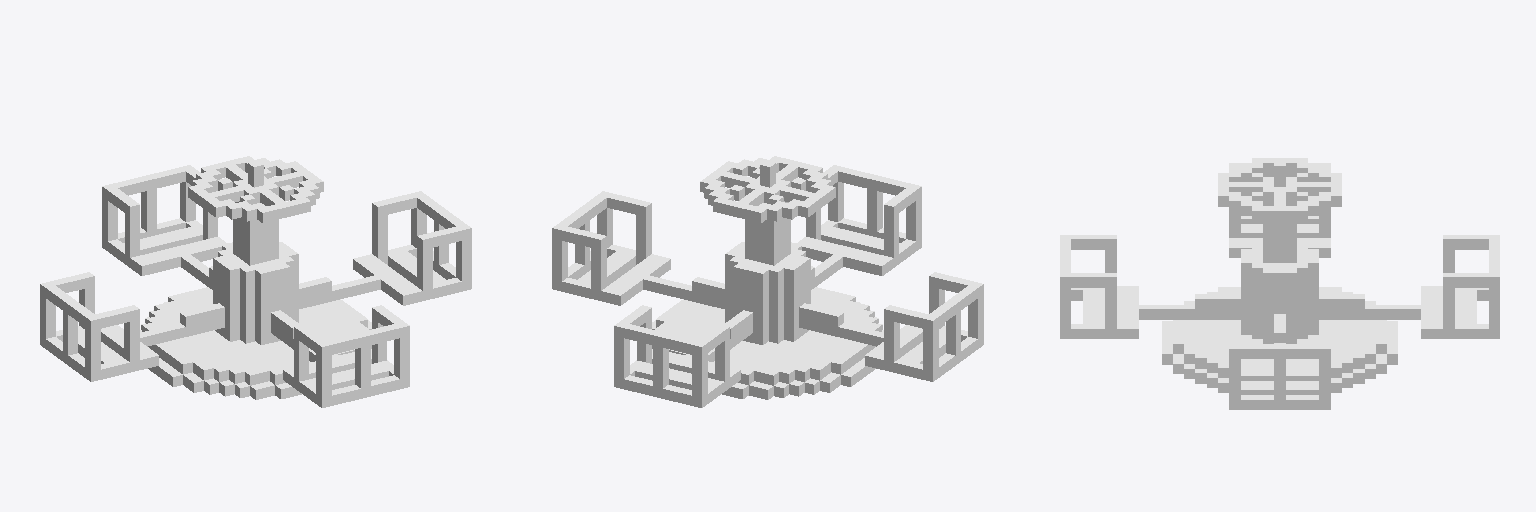
Rendered from rotflat1.obj.
3 views of the same model, side by side, from view 1: azimuth 30°, elevation 25°; view 2: azimuth 150°, elevation 25°; view 3: azimuth 270°, elevation 25° (orthographic).
Visible parts, largest first — view 1: object 1; view 2: object 1; view 3: object 1.
Boxes of the visible parts, x1=… form: object 1: x1=40, y1=156, x2=471, y2=407; object 1: x1=552, y1=156, x2=983, y2=407; object 1: x1=1060, y1=158, x2=1499, y2=409.
Size of the model in its own units: 3.9 by 1.8 by 3.9.